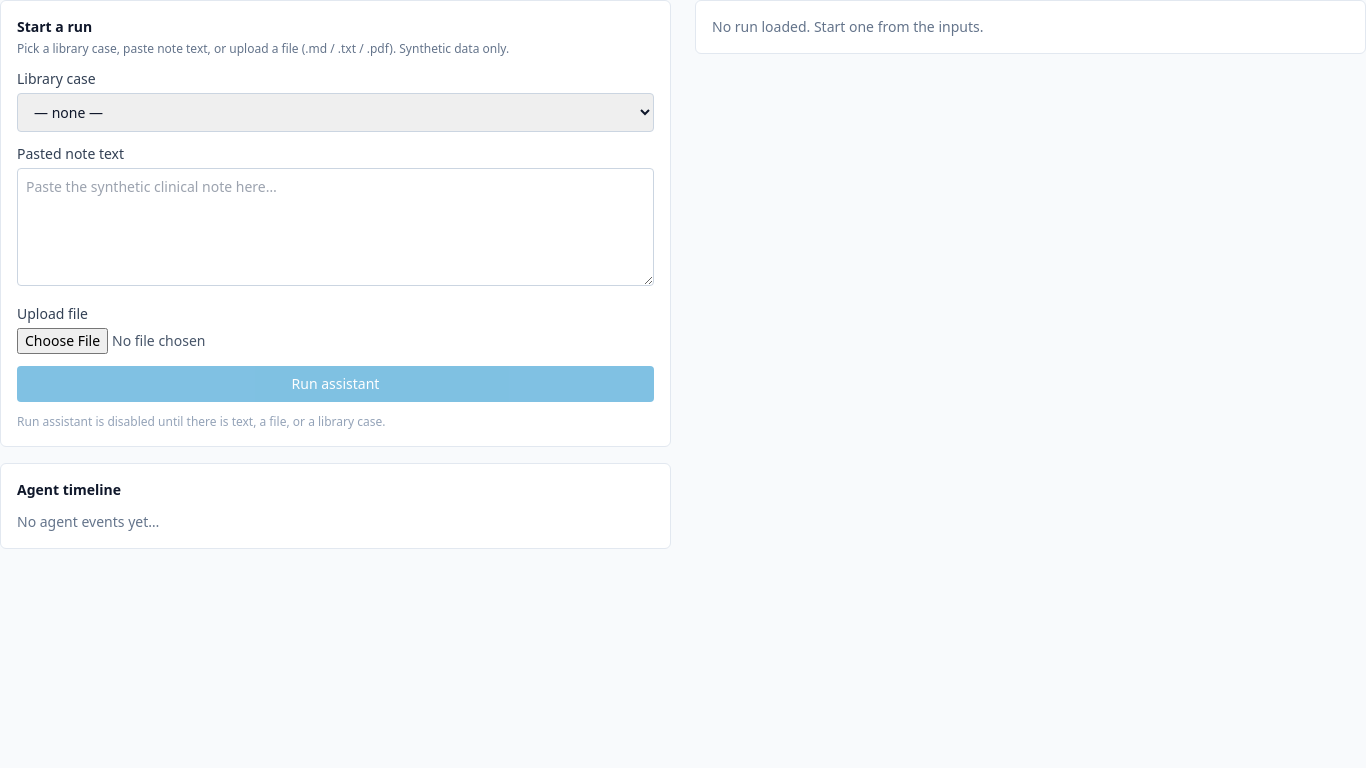
Workspace run gating › Run assistant enables once pasted text is provided
Type "synthetic note text" into the text box labelled "Pasted note text" at point(336, 227), box top-left (17, 168), bottom-right (654, 286)
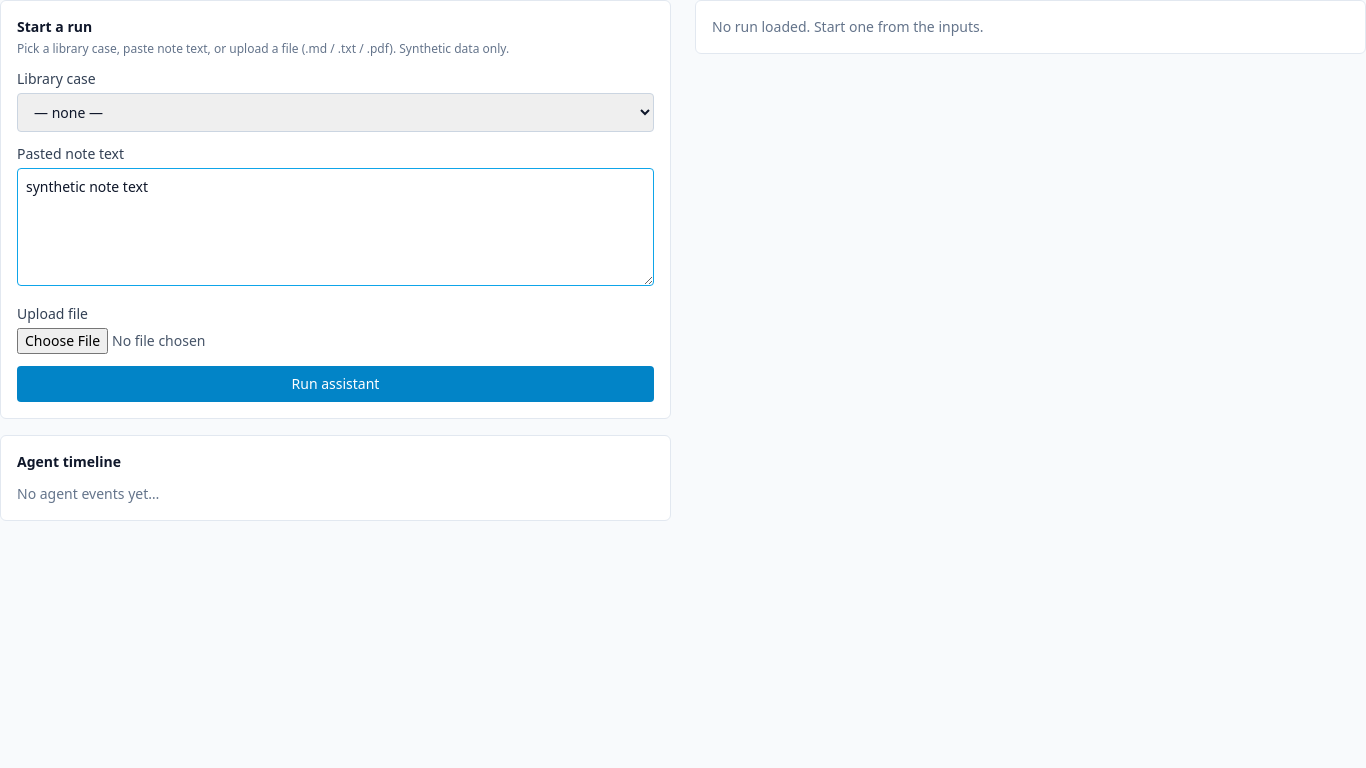
Expected: the button with test id "run-assistant-btn" is enabled, top-left (17, 366), bottom-right (654, 402)
